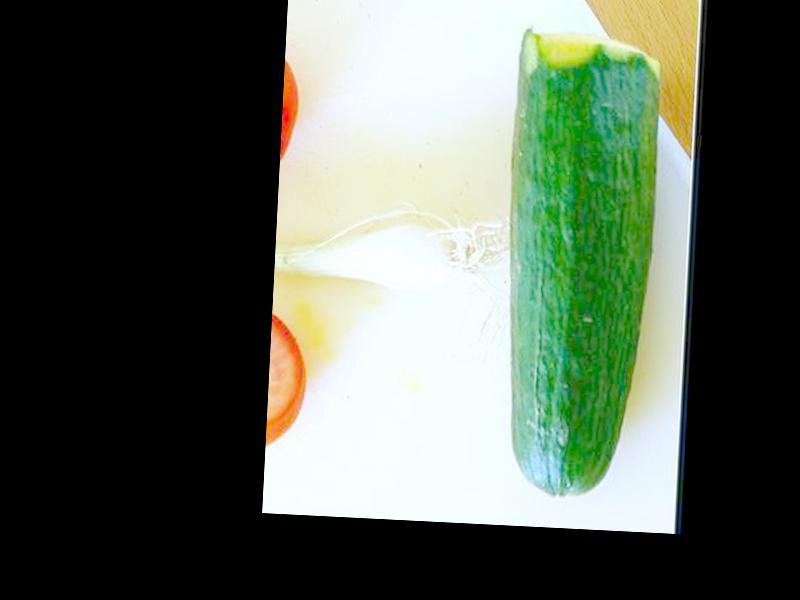Cucumber: (497, 27, 664, 503)
